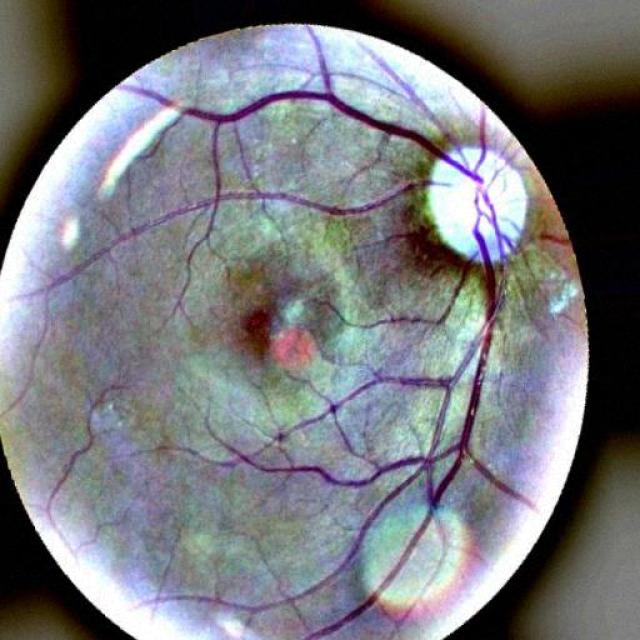Macula: (242, 309, 269, 355)
Nerves: (44, 25, 534, 639)
Optic Disk: (426, 145, 528, 261)
